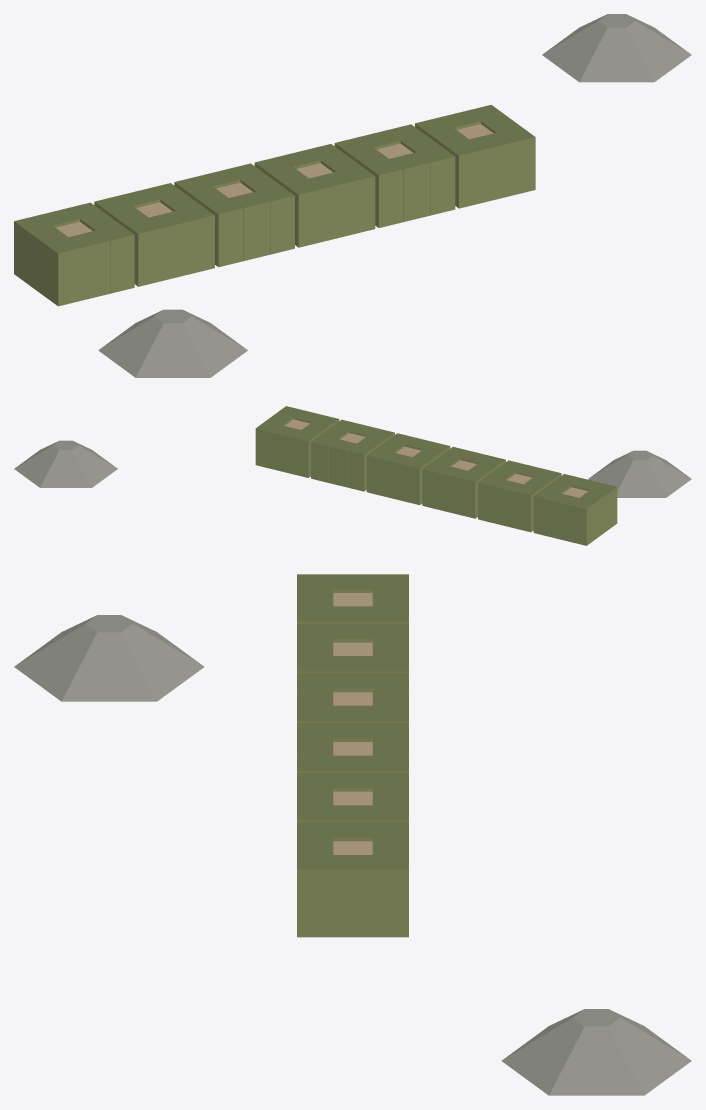
File: SM_ObraReconstruccion_v1_10m_LOD1.fbx
3 renders of one model, top to bottom at view 1: azimuth 30°, elevation 25°; view 2: azimuth 150°, elevation 25°; view 3: azimuth 270°, elevation 25°, orthographic. The views are drawn at different scales.
Parts seen in each view (by area): view 1: SM_obra_curso_v43_LOD1; view 2: SM_obra_curso_v43_LOD1; view 3: SM_obra_curso_v43_LOD1.
Boxes of the visible parts, x1,y1,x2,y2 form: SM_obra_curso_v43_LOD1: (14, 14, 691, 377); SM_obra_curso_v43_LOD1: (14, 406, 691, 545); SM_obra_curso_v43_LOD1: (14, 574, 691, 1095).
Bounding box in the file's own units: 10.36 × 0.7 × 6.4.
